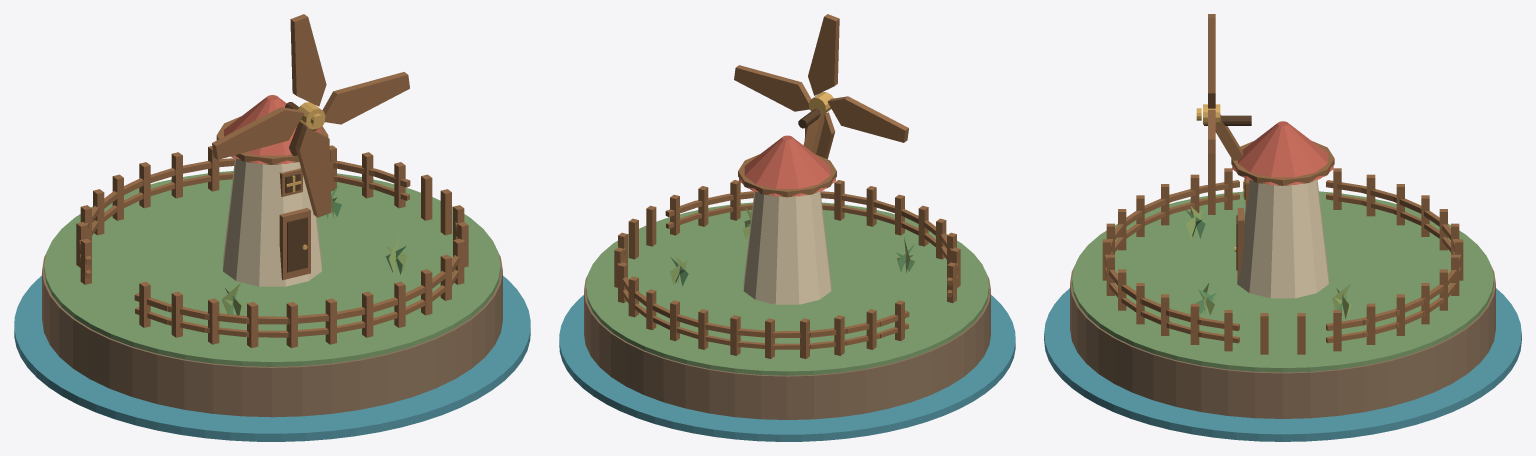
Rendered from asset.glb.
The picture shows the model from 3 angles, left to right: view 1: azimuth 30°, elevation 25°; view 2: azimuth 150°, elevation 25°; view 3: azimuth 270°, elevation 25°; orthographic projection. The views are drawn at different scales.
Visible parts, largest first — view 1: Meadow top, Floating island earth, Lagoon disk, Tapered mill tower, Oak sail 4, Oak sail 2, Oak sail 1, Oak sail 3, Terracotta conical roof, Door inset, Oak door, Roof eave (+7 smaller); view 2: Meadow top, Floating island earth, Lagoon disk, Tapered mill tower, Terracotta conical roof, Oak sail 4, Oak sail 2, Oak sail 1, Roof eave, Oak sail 3, Rotor support bracket; view 3: Meadow top, Floating island earth, Lagoon disk, Tapered mill tower, Terracotta conical roof, Roof eave, Oak sail 1, Rotor support bracket, Oak sail 3.
Boxes of the visible parts, <box> form: Meadow top: <box>44,171,500,366</box>; Floating island earth: <box>42,254,502,417</box>; Lagoon disk: <box>14,275,530,441</box>; Tapered mill tower: <box>223,158,321,286</box>; Oak sail 4: <box>212,107,304,159</box>; Oak sail 2: <box>322,72,409,124</box>; Oak sail 1: <box>290,14,326,106</box>; Oak sail 3: <box>295,125,331,217</box>; Terracotta conical roof: <box>224,95,320,163</box>; Door inset: <box>287,217,307,272</box>; Oak door: <box>279,208,310,279</box>; Roof eave: <box>216,116,328,164</box>; Meadow top: <box>586,202,988,375</box>; Floating island earth: <box>584,275,990,419</box>; Lagoon disk: <box>559,295,1015,441</box>; Tapered mill tower: <box>743,191,831,304</box>; Terracotta conical roof: <box>739,135,835,196</box>; Oak sail 4: <box>827,96,908,142</box>; Oak sail 2: <box>734,65,810,111</box>; Oak sail 1: <box>808,14,839,95</box>; Roof eave: <box>738,154,836,197</box>; Oak sail 3: <box>804,112,835,159</box>; Rotor support bracket: <box>803,108,826,154</box>; Meadow top: <box>1072,191,1493,372</box>; Floating island earth: <box>1070,268,1495,418</box>; Lagoon disk: <box>1044,288,1521,441</box>; Tapered mill tower: <box>1237,180,1328,298</box>; Terracotta conical roof: <box>1232,121,1333,184</box>; Roof eave: <box>1231,141,1334,185</box>; Oak sail 1: <box>1208,14,1215,108</box>; Rotor support bracket: <box>1215,114,1242,160</box>; Oak sail 3: <box>1208,153,1215,214</box>.
Bounding box in the file's own units: 6.84 × 5.06 × 6.84.
